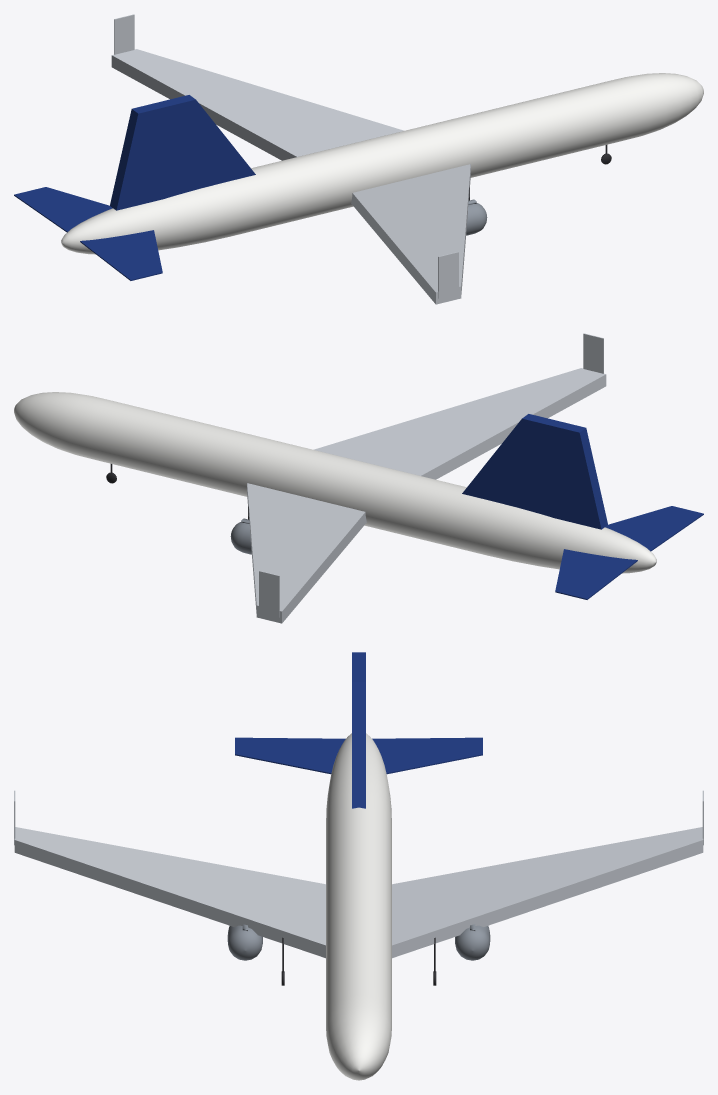
3 renders of one model, top to bottom at view 1: azimuth 30°, elevation 25°; view 2: azimuth 150°, elevation 25°; view 3: azimuth 270°, elevation 25°, orthographic. The views are drawn at different scales.
Parts seen in each view (by area): view 1: fuselage, wings, tail, engines; view 2: fuselage, wings, tail, engines; view 3: wings, fuselage, tail, engines.
Part boxes in pixels (box(x1,y1,x2,y2)): fuselage: box(61, 73, 703, 254); wings: box(111, 14, 470, 304); tail: box(14, 95, 255, 280); engines: box(466, 199, 487, 235); fuselage: box(14, 392, 656, 573); wings: box(247, 333, 606, 623); tail: box(462, 414, 703, 599); engines: box(230, 518, 251, 554); wings: box(14, 790, 703, 958); fuselage: box(326, 733, 391, 1080); tail: box(235, 652, 482, 808); engines: box(227, 924, 490, 960).
Size of the model in its own units: 73.9 by 18.49 by 64.92.
